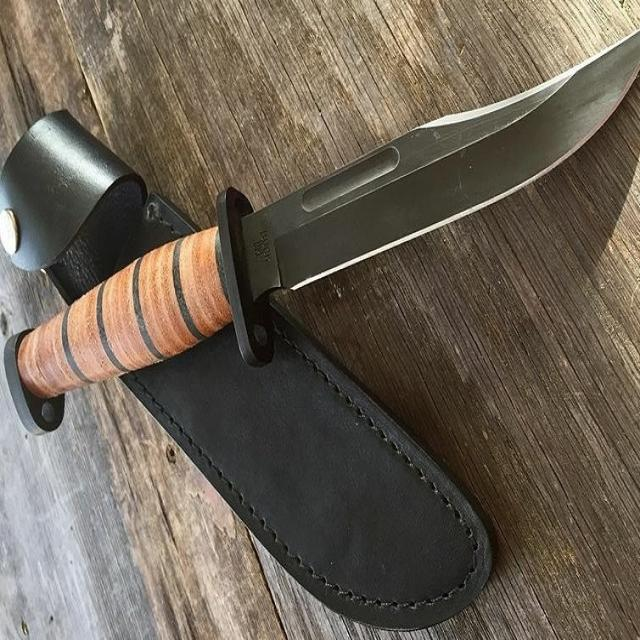knife: (3, 26, 640, 443)
